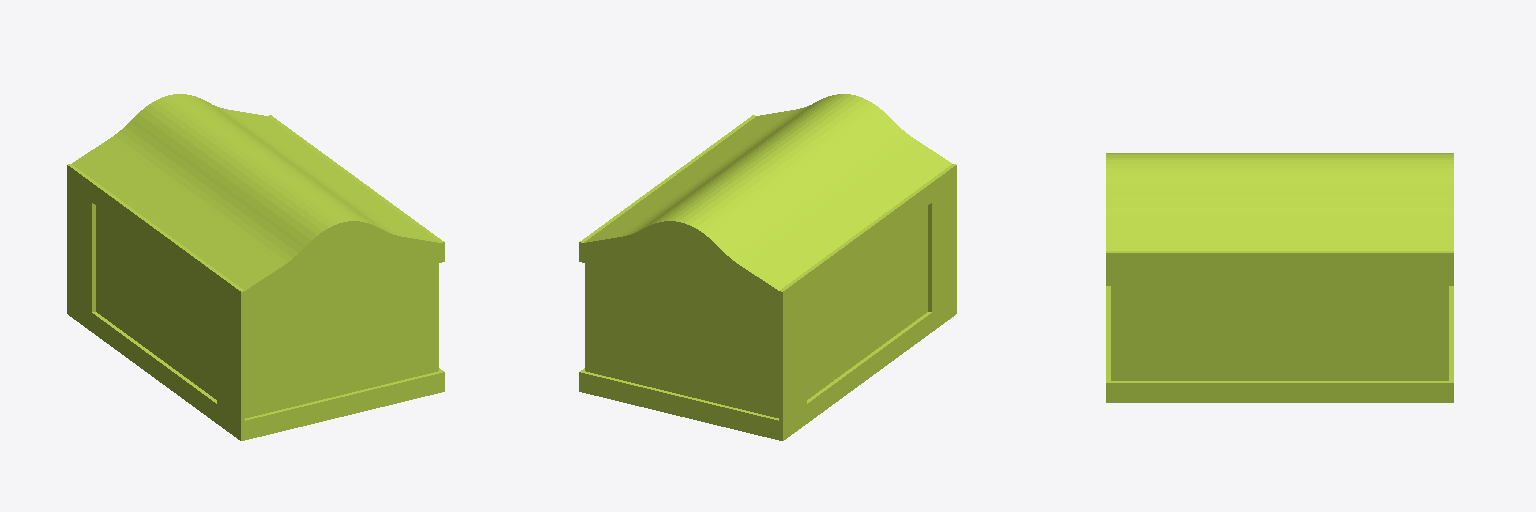
Rendered from boite_tresor.obj.
The picture shows the model from 3 angles: view 1: azimuth 30°, elevation 25°; view 2: azimuth 150°, elevation 25°; view 3: azimuth 270°, elevation 25°; orthographic projection.
Parts seen in each view (by area): view 1: Box001; view 2: Box001; view 3: Box001.
Boxes of the visible parts, x1=… form: Box001: x1=67, y1=94, x2=444, y2=440; Box001: x1=579, y1=94, x2=956, y2=440; Box001: x1=1106, y1=153, x2=1453, y2=402.
Size of the model in its own units: 0.3038 by 0.2769 by 0.4491.